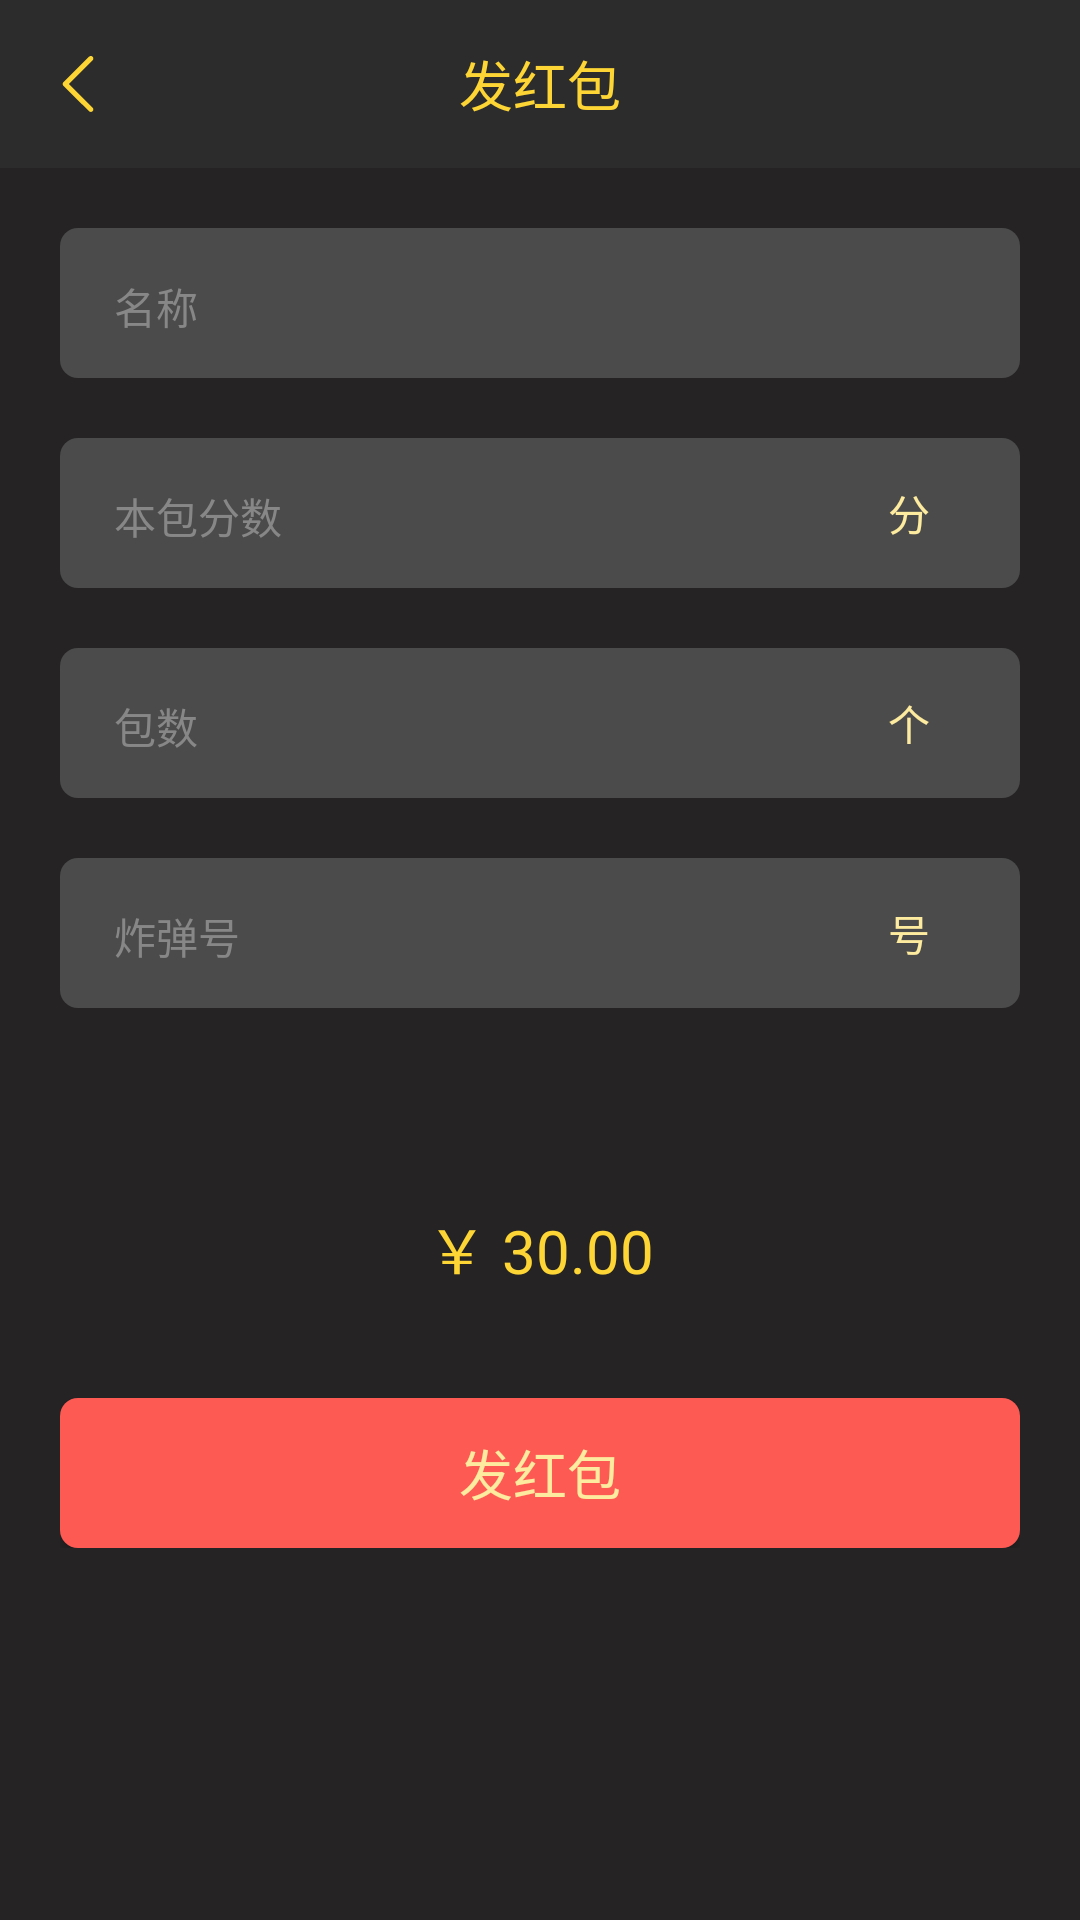

Where to tap for icons on this 1080px×1920px app screen, as point (x, y):
socket icom back: point (78, 84)
